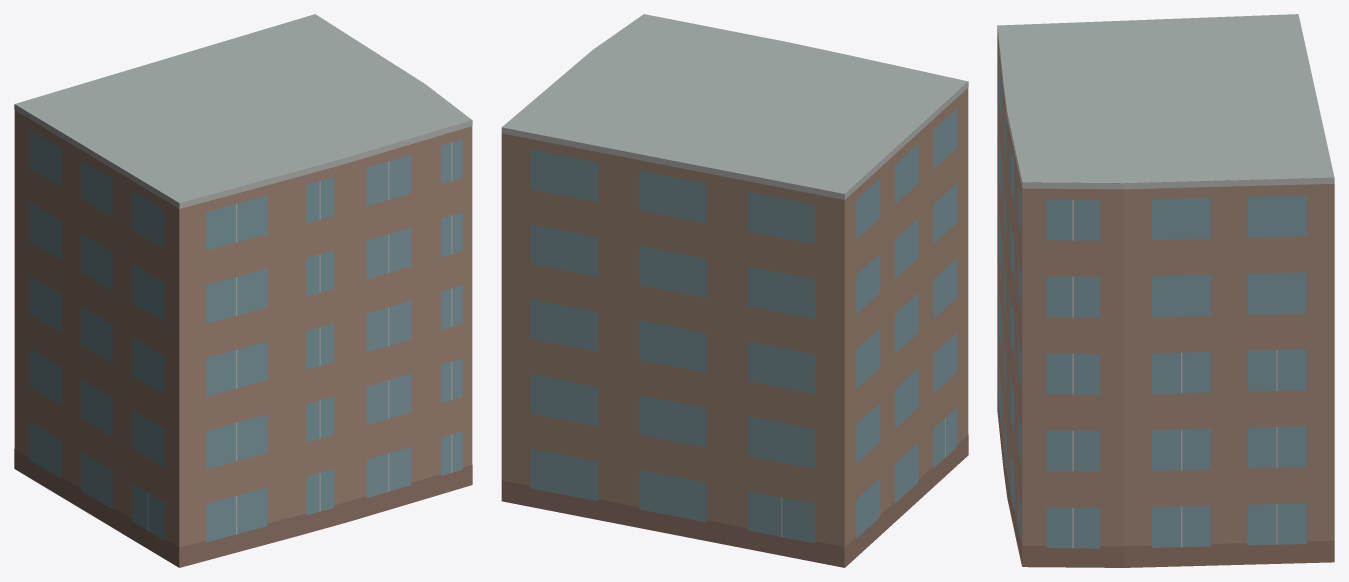
The model's file is survey-upis-32755142.glb.
The picture shows the model from 3 angles, left to right: view 1: azimuth 30°, elevation 25°; view 2: azimuth 150°, elevation 25°; view 3: azimuth 270°, elevation 25°; orthographic projection. The views are drawn at different scales.
Visible parts, largest first — view 1: survey-upis-32755142.tmp; view 2: survey-upis-32755142.tmp; view 3: survey-upis-32755142.tmp.
Boxes of the visible parts, x1,y1,x2,y2 form: survey-upis-32755142.tmp: (14, 14, 472, 567); survey-upis-32755142.tmp: (501, 14, 968, 567); survey-upis-32755142.tmp: (997, 14, 1334, 567).
Size of the model in its own units: 14.31 by 15.17 by 12.06.
